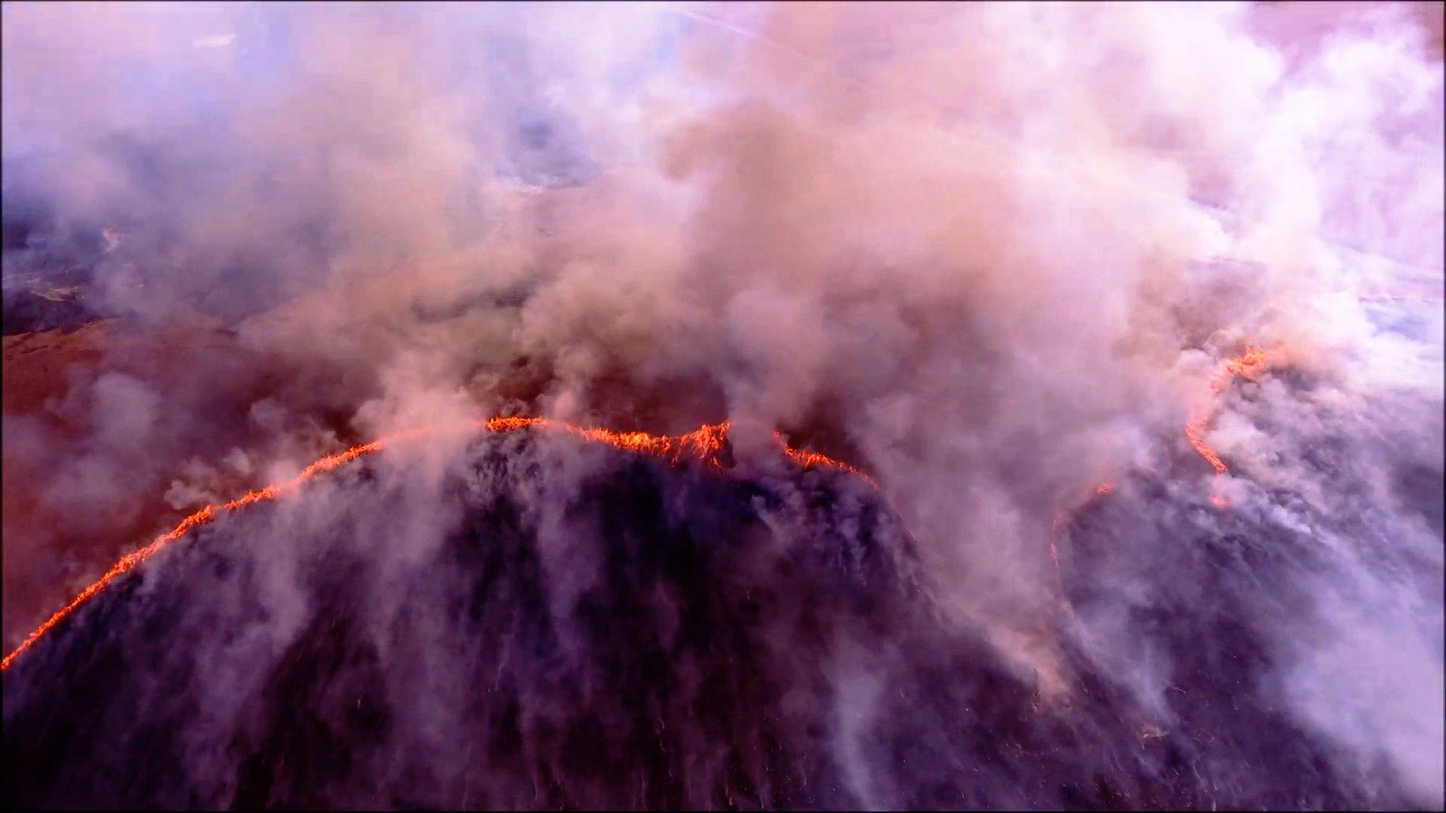fire: (648, 415, 729, 475), (578, 424, 660, 456)
smoke: (655, 23, 1190, 670), (236, 3, 629, 410), (368, 471, 609, 813), (0, 2, 220, 325), (1280, 550, 1446, 813)
